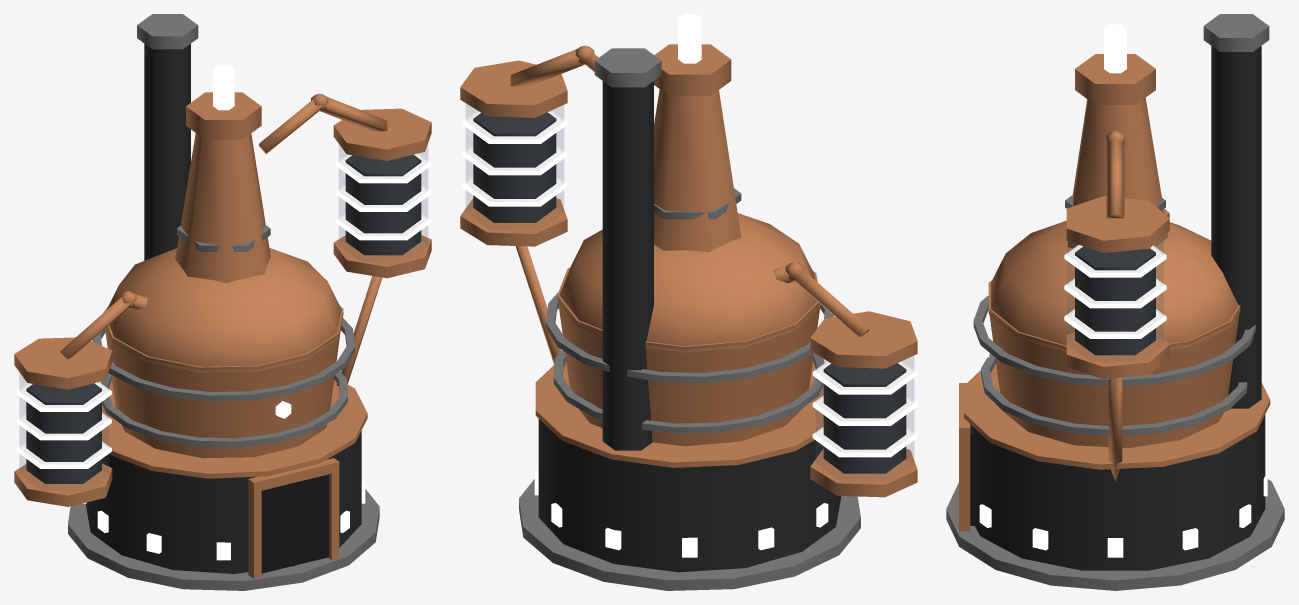
The model's file is Skin_Distillery_T2.glb.
3 renders of one model, left to right at view 1: azimuth 30°, elevation 25°; view 2: azimuth 150°, elevation 25°; view 3: azimuth 270°, elevation 25°, orthographic. The views are drawn at different scales.
Visible parts, largest first — view 1: Skin_Distillery_T2; view 2: Skin_Distillery_T2; view 3: Skin_Distillery_T2.
Part boxes in pixels (<box>): Skin_Distillery_T2: <box>14,14,431,590</box>; Skin_Distillery_T2: <box>460,14,917,590</box>; Skin_Distillery_T2: <box>946,14,1284,590</box>.
Size of the model in its own units: 5.19 by 5.63 by 3.5.
